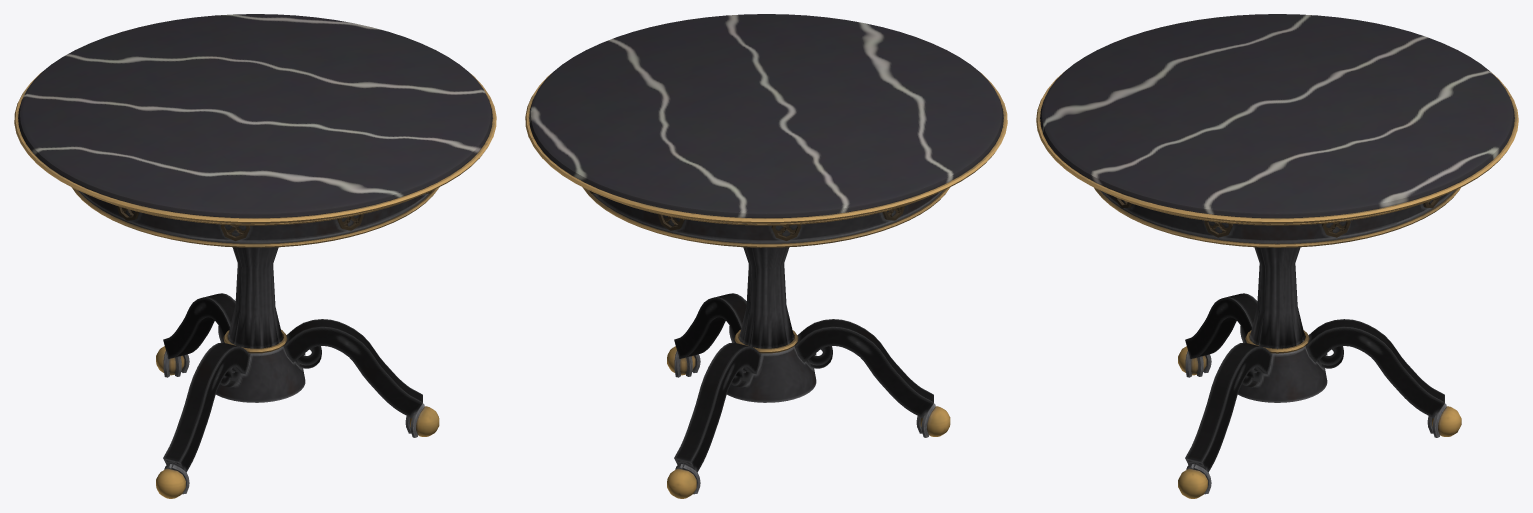
Rendered from TableRound.fbx.
3 views of the same model, side by side, from view 1: azimuth 30°, elevation 25°; view 2: azimuth 150°, elevation 25°; view 3: azimuth 270°, elevation 25° (orthographic).
Parts seen in each view (by area): view 1: TableRound; view 2: TableRound; view 3: TableRound.
Part boxes in pixels (box(x1,y1,x2,y2)): TableRound: box(14, 14, 496, 498); TableRound: box(525, 14, 1007, 498); TableRound: box(1036, 14, 1518, 498).
Size of the model in its own units: 405 by 300 by 405.
